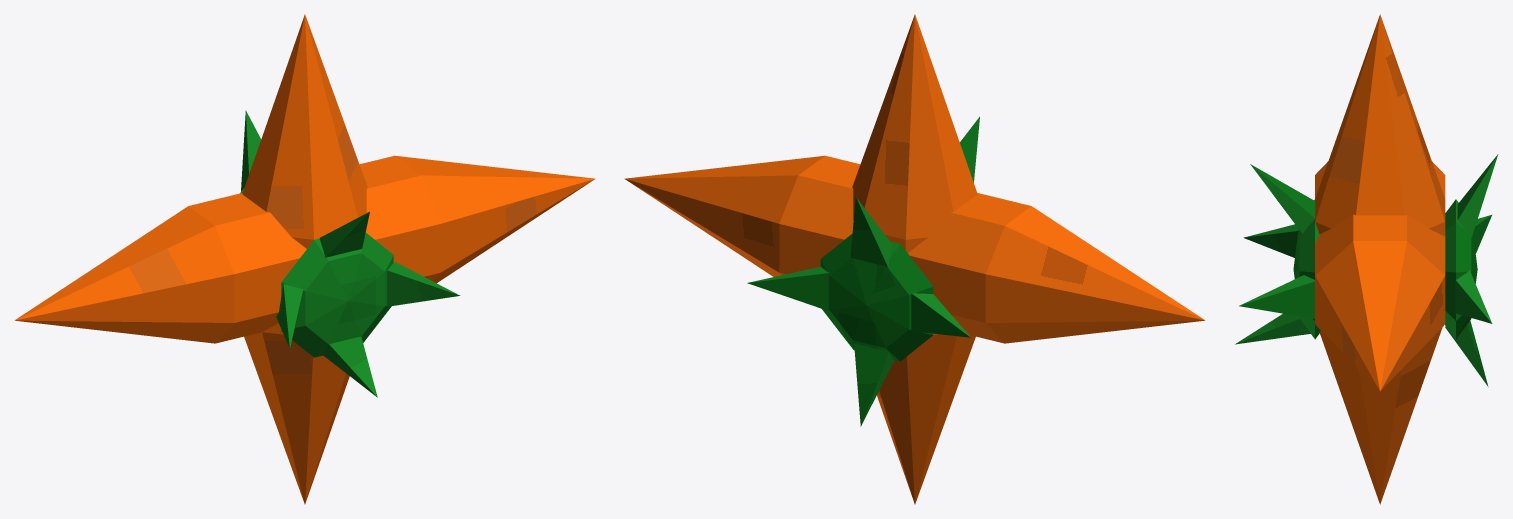
File: Carrot Model.fbx
3 views of the same model, side by side, from view 1: azimuth 30°, elevation 25°; view 2: azimuth 150°, elevation 25°; view 3: azimuth 270°, elevation 25° (orthographic).
Parts seen in each view (by area): view 1: cone_3, cone, cylinder_1, cone_2, sphere, cone_1, pyramid_3, pyramid_1, pyramid, pyramid_2, pyramid_4; view 2: cone_3, cone, cylinder_1, cone_2, sphere_1, cone_1, pyramid_5, pyramid_6, pyramid_4, pyramid_7, pyramid; view 3: cone, cone_2, cone_1, cylinder_1, sphere_1, pyramid_3, pyramid, sphere, pyramid_4, pyramid_5, pyramid_1, pyramid_2 (+2 smaller).
Part boxes in pixels (bbox=[...]): cone_3: bbox=[14, 206, 234, 343]; cone: bbox=[242, 14, 367, 239]; cylinder_1: bbox=[188, 155, 440, 343]; cone_2: bbox=[395, 155, 595, 283]; sphere: bbox=[281, 233, 393, 357]; cone_1: bbox=[244, 332, 349, 504]; pyramid_3: bbox=[387, 262, 460, 306]; pyramid_1: bbox=[322, 336, 377, 397]; pyramid: bbox=[319, 211, 369, 257]; pyramid_2: bbox=[276, 284, 303, 348]; pyramid_4: bbox=[241, 110, 261, 191]; cone_3: bbox=[985, 206, 1205, 343]; cone: bbox=[852, 14, 977, 239]; cylinder_1: bbox=[779, 155, 1031, 343]; cone_2: bbox=[624, 155, 824, 276]; sphere_1: bbox=[820, 233, 933, 361]; cone_1: bbox=[877, 334, 975, 504]; pyramid_5: bbox=[747, 266, 829, 311]; pyramid_6: bbox=[854, 343, 894, 426]; pyramid_4: bbox=[850, 197, 892, 266]; pyramid_7: bbox=[911, 292, 970, 337]; pyramid: bbox=[960, 116, 979, 182]; cone: bbox=[1315, 14, 1445, 228]; cone_2: bbox=[1315, 241, 1445, 391]; cone_1: bbox=[1320, 327, 1442, 504]; cylinder_1: bbox=[1315, 164, 1445, 275]; sphere_1: bbox=[1445, 199, 1477, 338]; pyramid_3: bbox=[1239, 275, 1314, 318]; pyramid: bbox=[1250, 164, 1315, 233]; sphere: bbox=[1293, 199, 1320, 339]; pyramid_4: bbox=[1457, 154, 1498, 237]; pyramid_5: bbox=[1455, 270, 1492, 323]; pyramid_1: bbox=[1235, 313, 1310, 344]; pyramid_2: bbox=[1243, 224, 1298, 257].
Size of the model in its own units: 96.88 by 78.12 by 38.09.
Materials: 1 (1 with a texture image).
